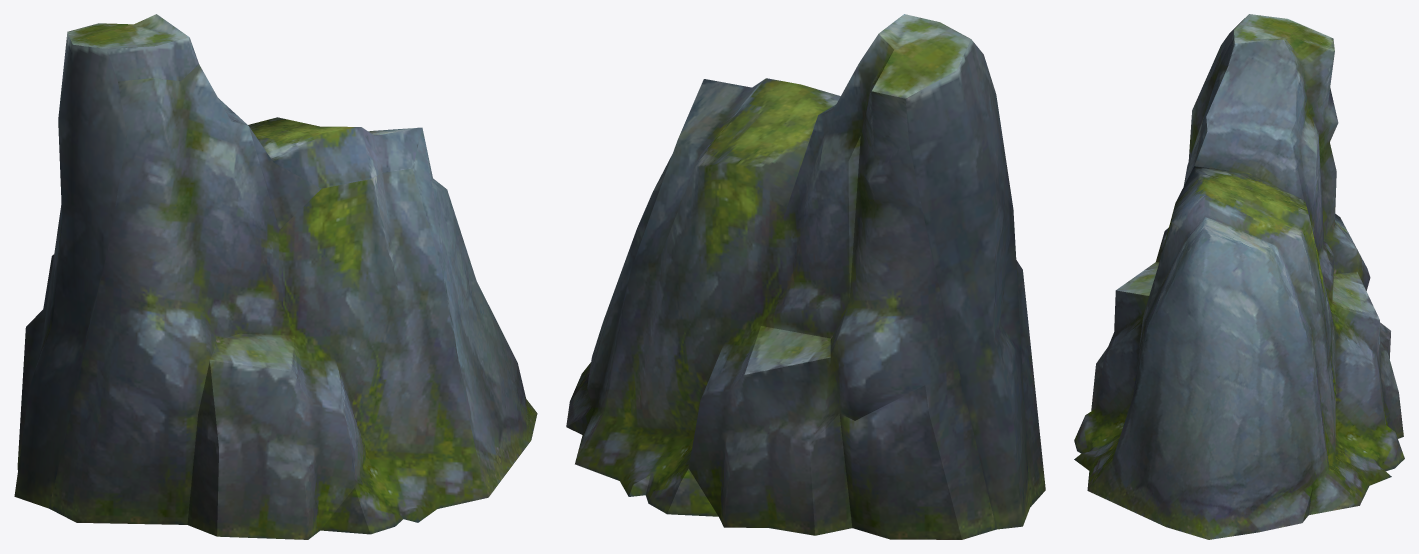
The model's file is SC_ZGFstone01.FBX.
3 views of the same model, side by side, from view 1: azimuth 30°, elevation 25°; view 2: azimuth 150°, elevation 25°; view 3: azimuth 270°, elevation 25° (orthographic). The views are drawn at different scales.
Parts seen in each view (by area): view 1: SC_ZGFstone01; view 2: SC_ZGFstone01; view 3: SC_ZGFstone01.
Boxes of the visible parts, bbox=[...] form: SC_ZGFstone01: bbox=[14, 14, 537, 539]; SC_ZGFstone01: bbox=[566, 14, 1045, 539]; SC_ZGFstone01: bbox=[1074, 14, 1404, 539].
Bounding box in the file's own units: 855 × 767 × 628.
